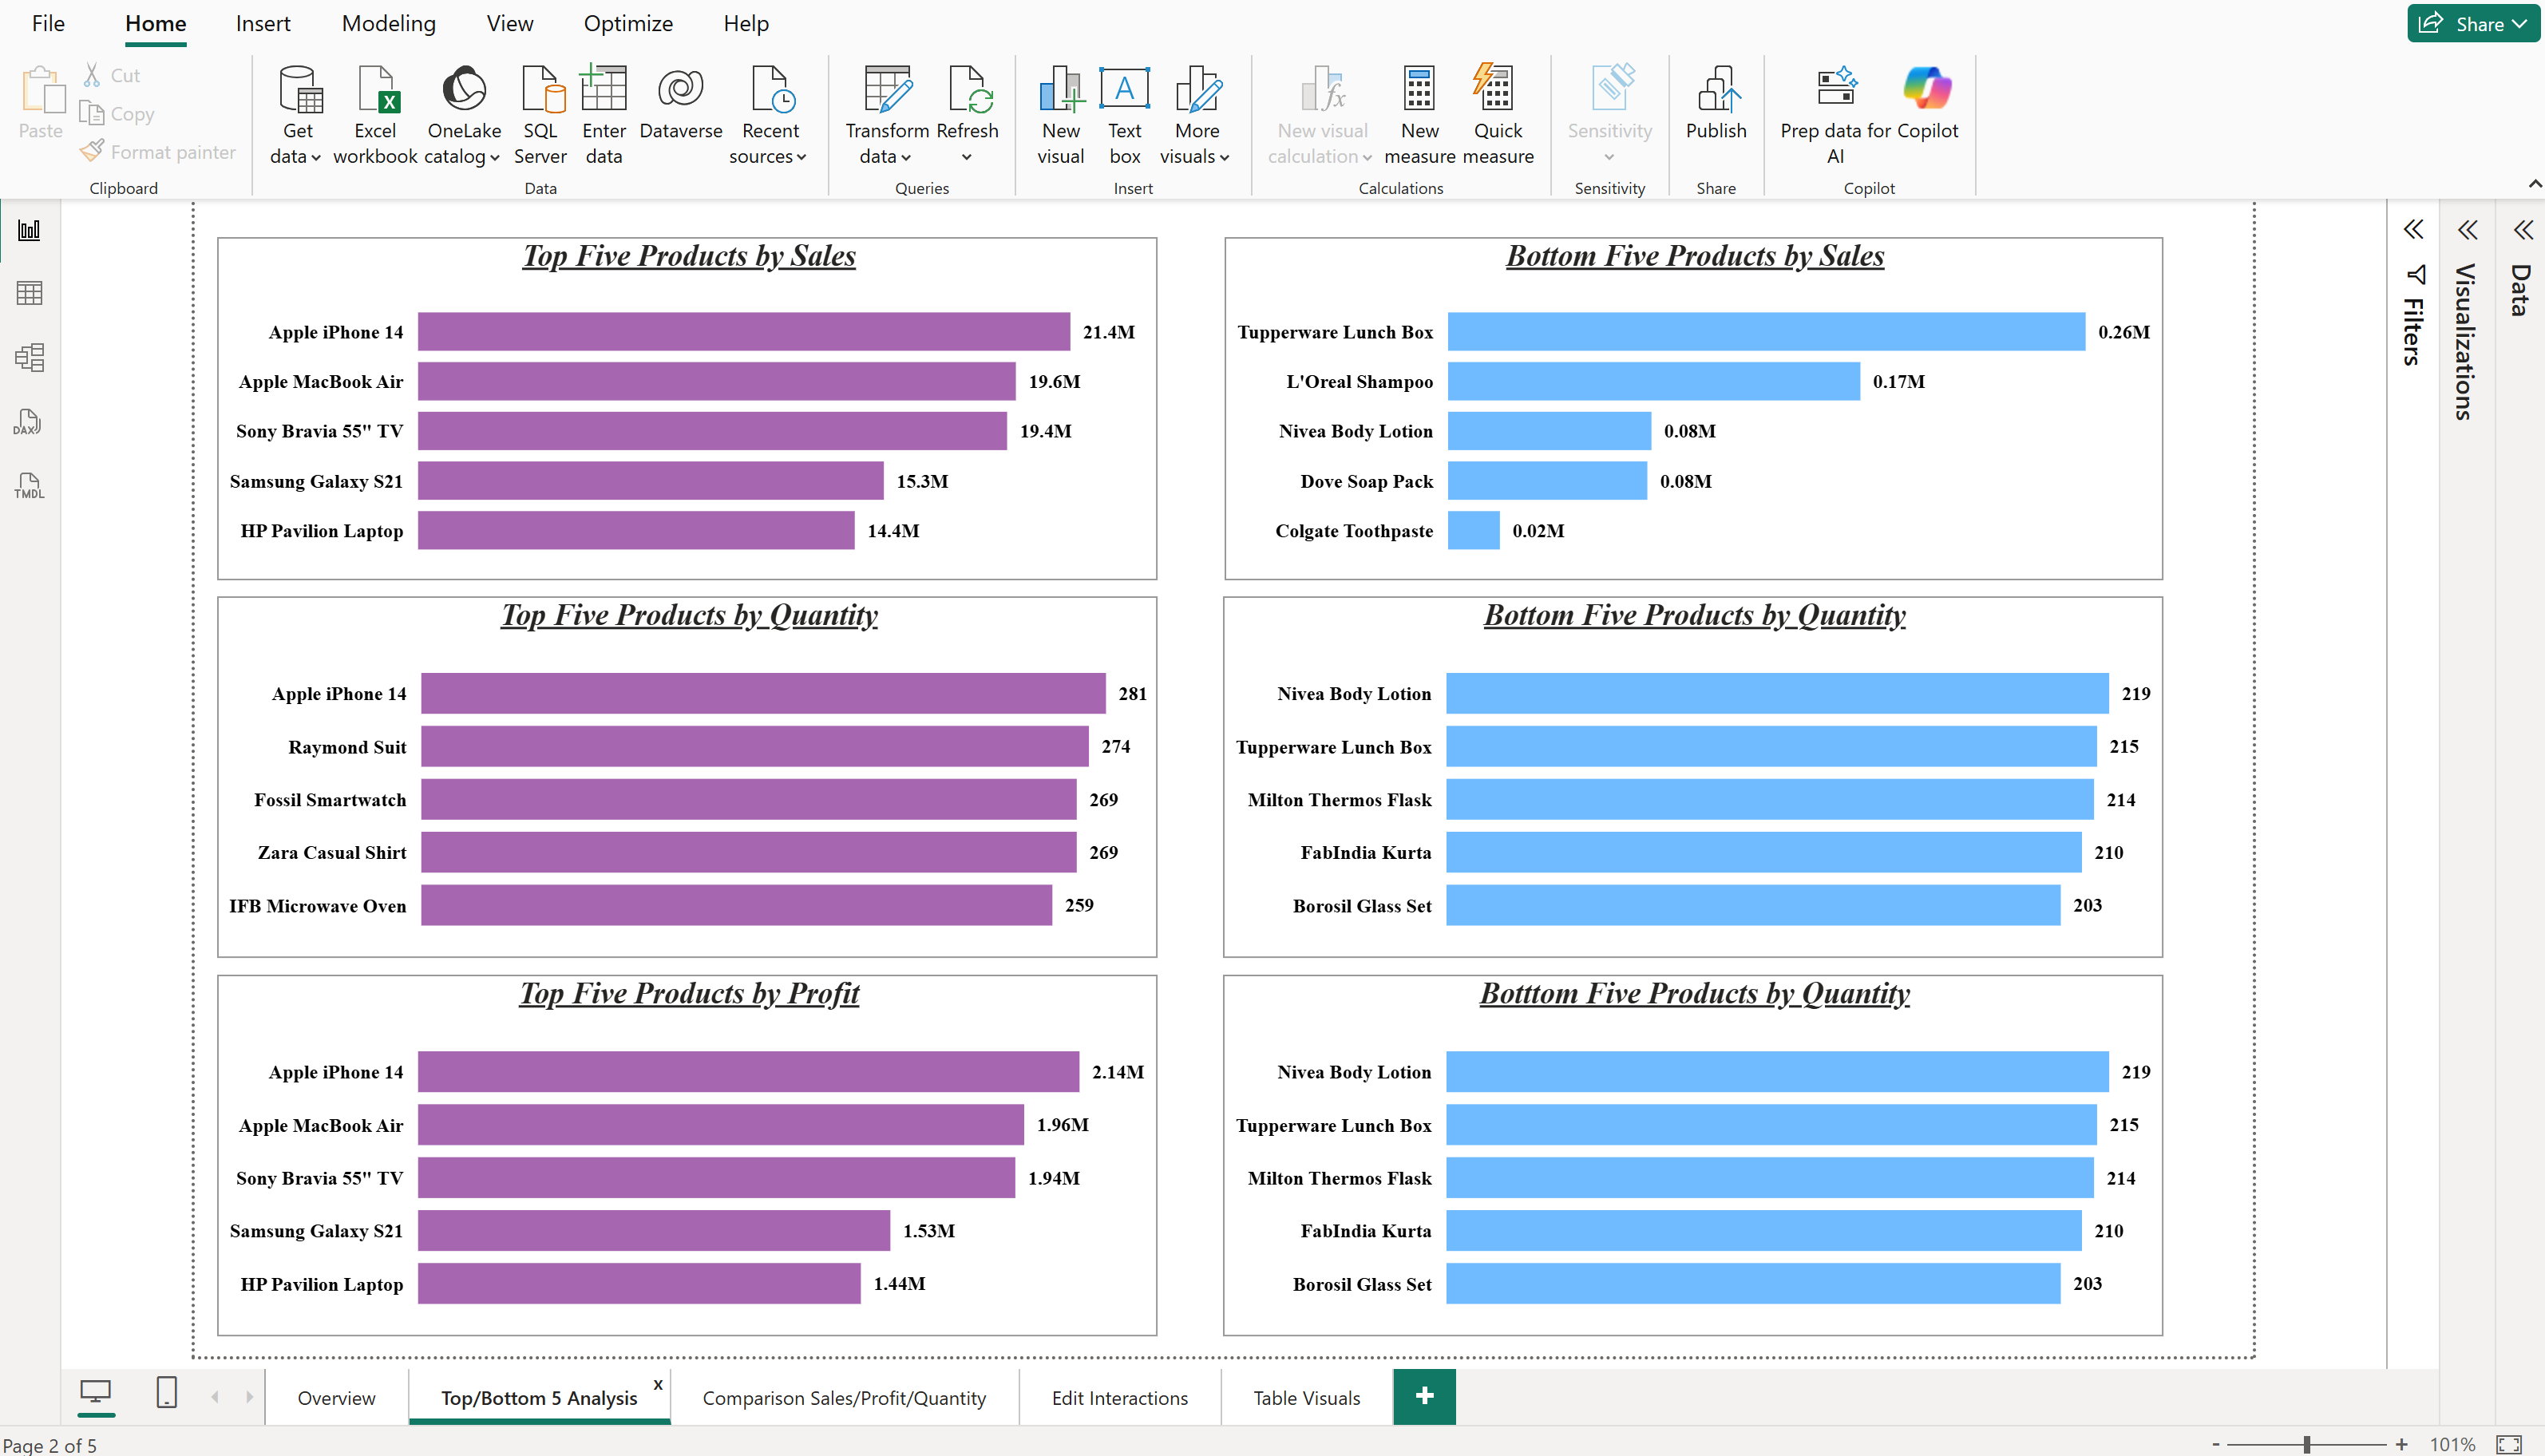

The page's visual inventory and layout, read from the dashboard file:
{"tool":"powerbi","page":{"name":"Top/Bottom 5 Analysis","canvas":[1280,720],"ordinal":1},"visuals":[{"type":"barChart","title":"Top Five Products by Sales","fields":{"Category":["Dim Product.Product Name"],"Y":["Sum(Fact Table.Net Sales   )"]},"box":[13.9,24,585,213.5],"z":0},{"type":"barChart","title":"Bottom Five Products by Sales","fields":{"Category":["Dim Product.Product Name"],"Y":["Sum(Fact Table.Net Sales   )"]},"box":[640.6,24,583.8,213.5],"z":1000},{"type":"barChart","title":"Top Five Products by Quantity","fields":{"Category":["Dim Product.Product Name"],"Y":["Sum(Fact Table.Units Sold)"]},"box":[13.9,247.7,585,224.9],"z":2000},{"type":"barChart","title":"Bottom Five Products by Quantity","fields":{"Category":["Dim Product.Product Name"],"Y":["Sum(Fact Table.Units Sold)"]},"box":[639.4,247.7,585,224.9],"z":3000},{"type":"barChart","title":"Top Five Products by Profit","fields":{"Category":["Dim Product.Product Name"],"Y":["Sum(Fact Table.Profit)"]},"box":[13.9,482.7,585,224.9],"z":4000},{"type":"barChart","title":"Botttom Five Products by Quantity","fields":{"Category":["Dim Product.Product Name"],"Y":["Sum(Fact Table.Units Sold)"]},"box":[639.4,482.7,585,224.9],"z":5000}]}

Visuals, with their boxes on the page's 1280x720 design canvas (x1, y1, x2, y2). These are canvas units, not pixel positions in the 2545x1456 screenshot, which may show the page scaled, cropped or inside an application window:
"Top Five Products by Sales" barChart: (14,24,599,238)
"Bottom Five Products by Sales" barChart: (641,24,1224,238)
"Top Five Products by Quantity" barChart: (14,248,599,473)
"Bottom Five Products by Quantity" barChart: (639,248,1224,473)
"Top Five Products by Profit" barChart: (14,483,599,708)
"Botttom Five Products by Quantity" barChart: (639,483,1224,708)
